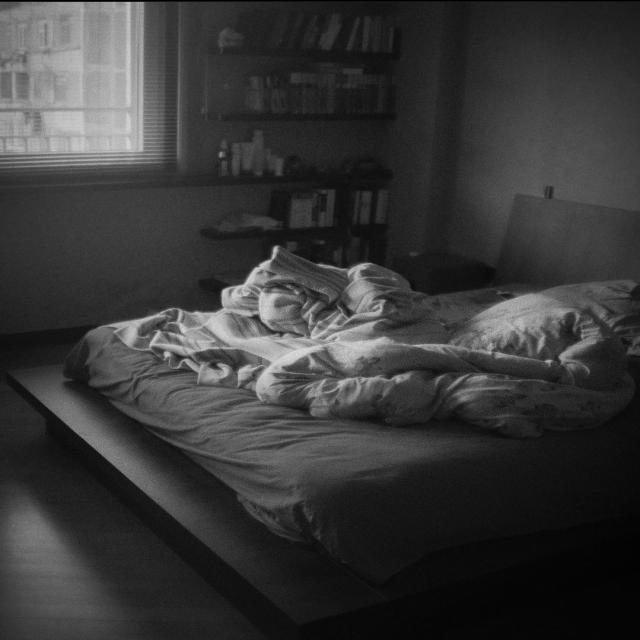bed: (73, 221, 627, 546)
